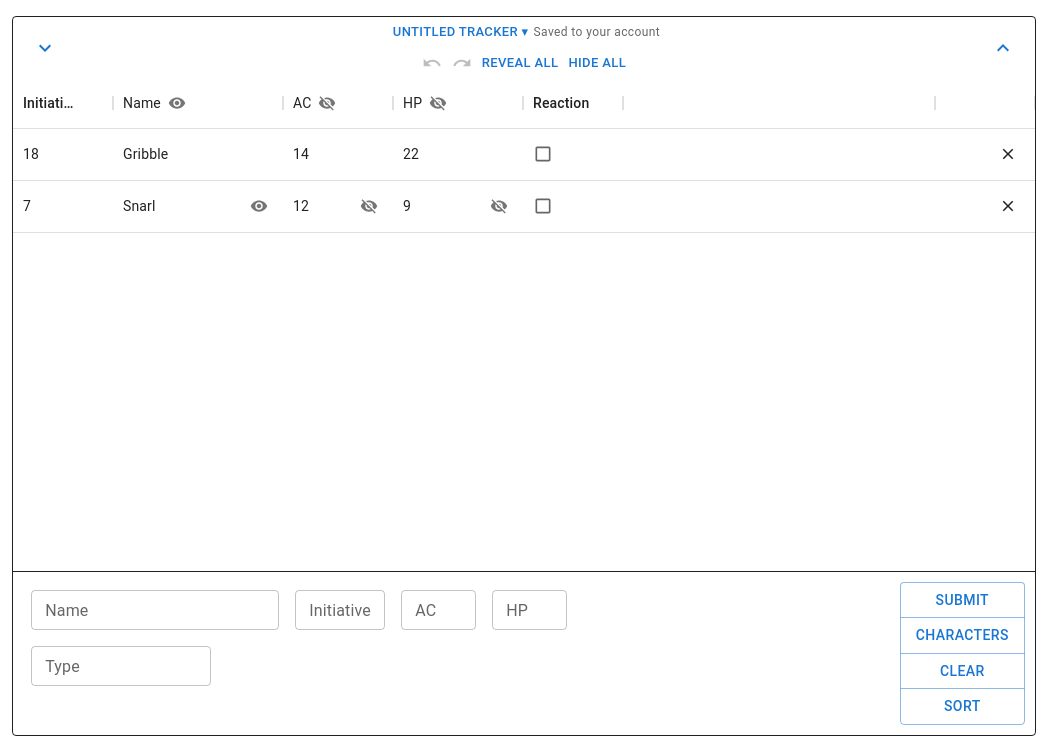
it: TrackerPage › offers to try again when a save didn't work
The width and height of the screenshot is (1053, 753).
Expected: the text "Gribble" is shown, [123,144,168,164]
Click the button named "Next turn" at (1003, 48), box [971,30,1035,66]
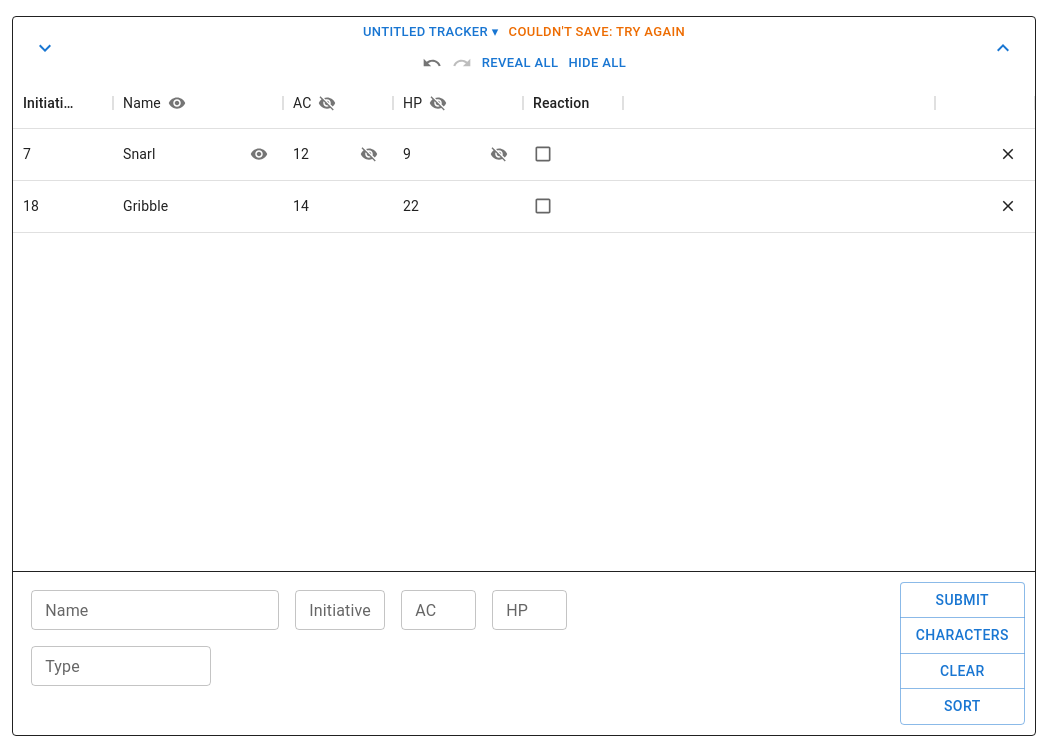
Click the button "Couldn't save: try again" at (597, 32), box [504,17,690,48]
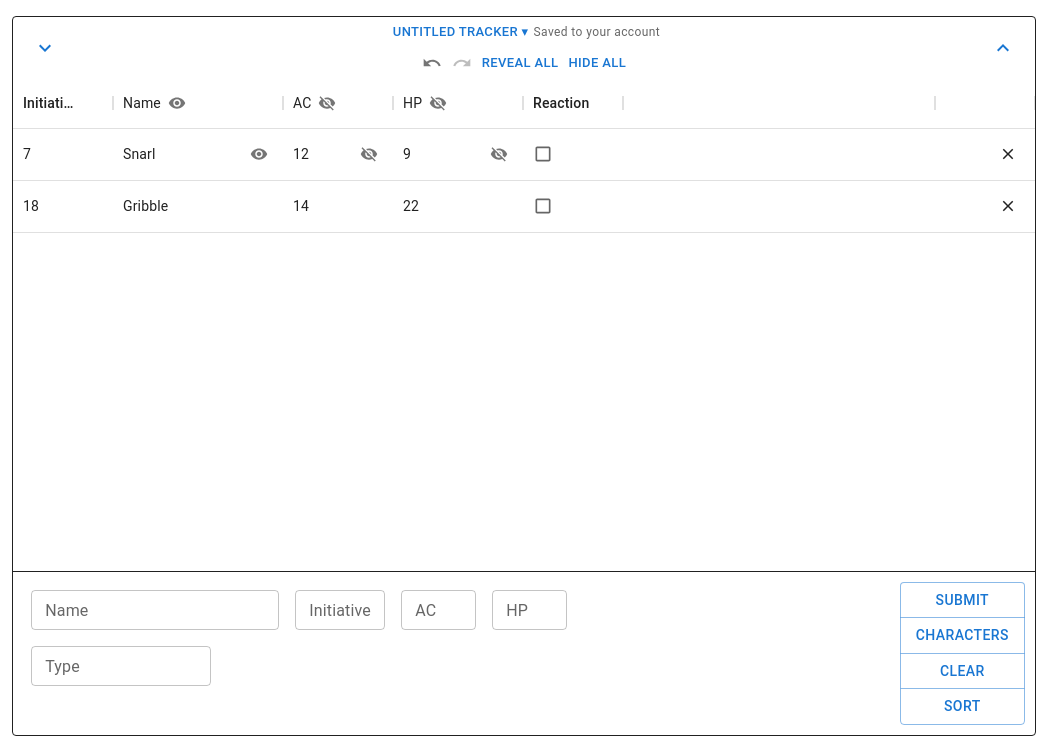
Expected: the message reads "Saved to your account", [534,25,660,39]
